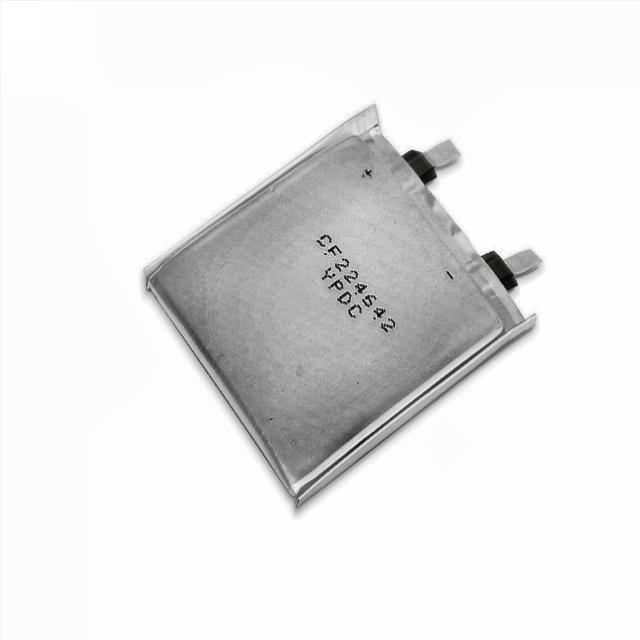Non-Valuable Waste - Batteries: (144, 105, 542, 506)
